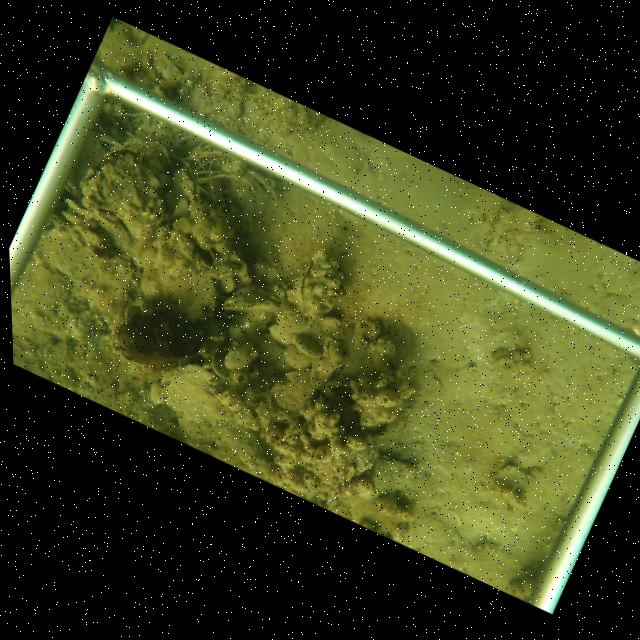Oyster-Closed: (149, 276, 218, 321), (221, 285, 281, 315), (289, 260, 315, 317), (221, 338, 255, 369), (171, 167, 199, 202), (291, 332, 323, 360), (206, 259, 241, 281), (283, 344, 312, 370), (268, 320, 294, 345), (217, 275, 237, 296), (366, 317, 384, 340), (319, 315, 342, 332), (322, 337, 336, 364)
Oyster-Indeterminate: (268, 367, 314, 416)
